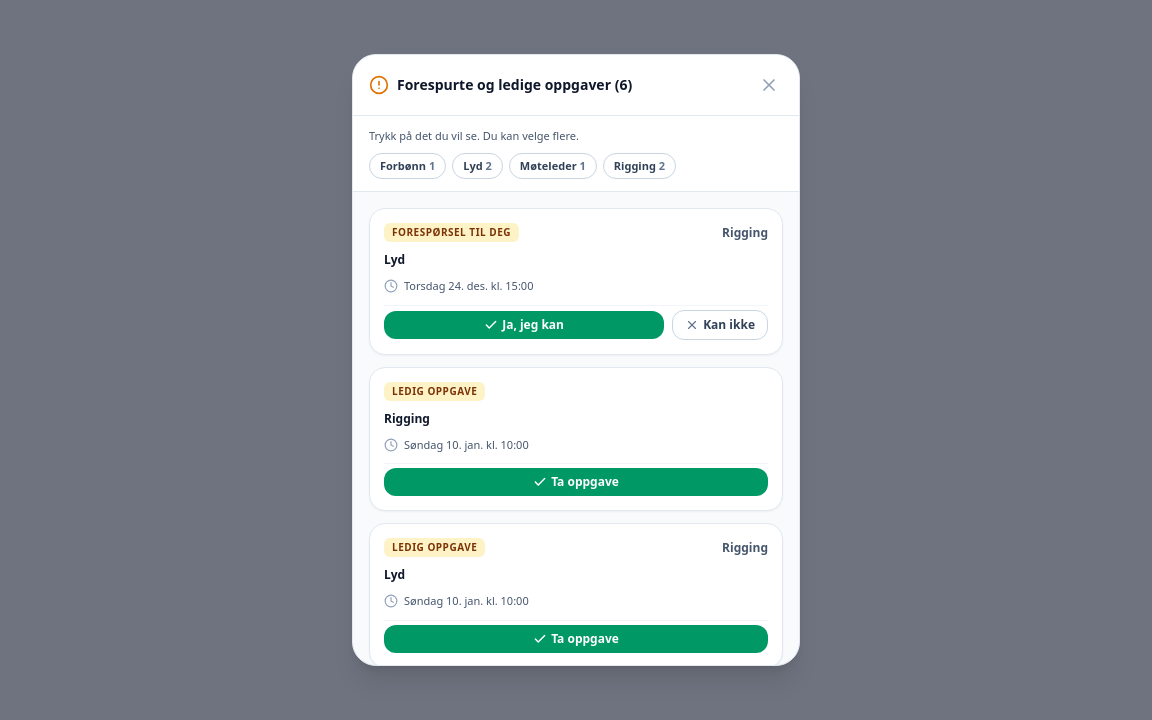
Test case: Listen med tagger › flere tagger kan trykkes inn, og alle som er trykket inn, vises
The width and height of the screenshot is (1152, 720).
Expected: the heading "Forespurte og ledige oppgaver (6)" is shown, [397, 75, 632, 95]
Click the button "Rigging 2": click(639, 166) [603, 152, 676, 179]
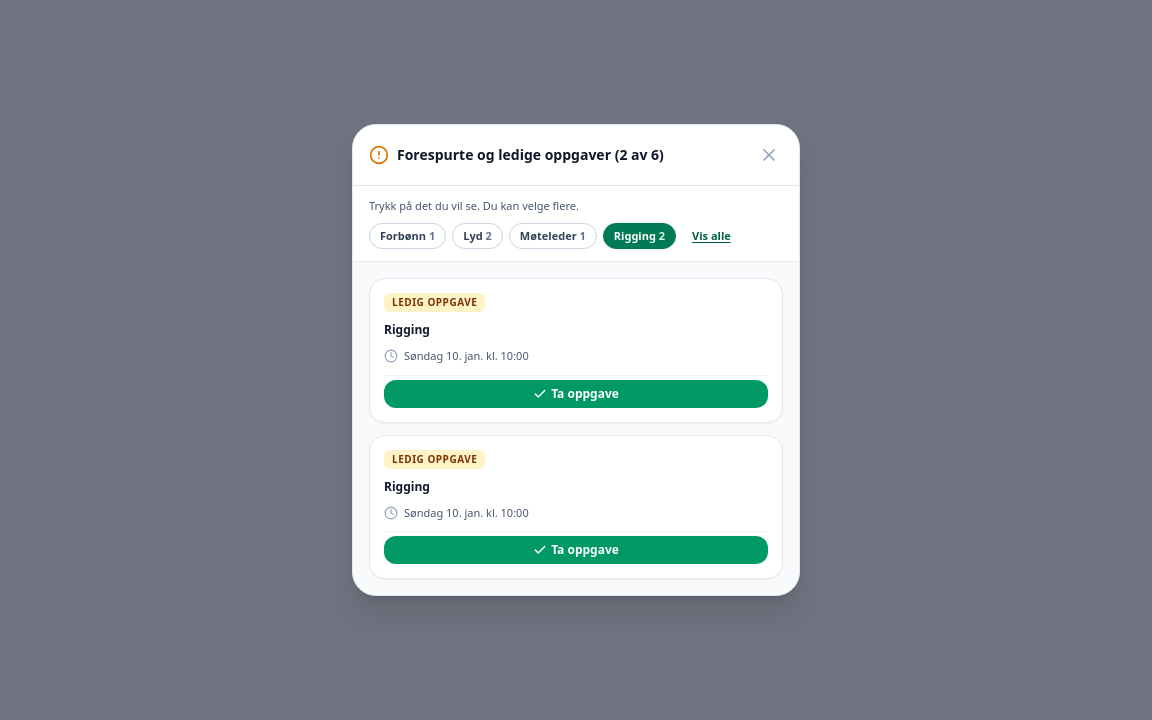
Now the heading "Forespurte og ledige oppgaver (2 av 6)" is shown, box [397, 145, 664, 165]
Click the button "Møteleder 1": click(553, 236) [509, 222, 597, 249]
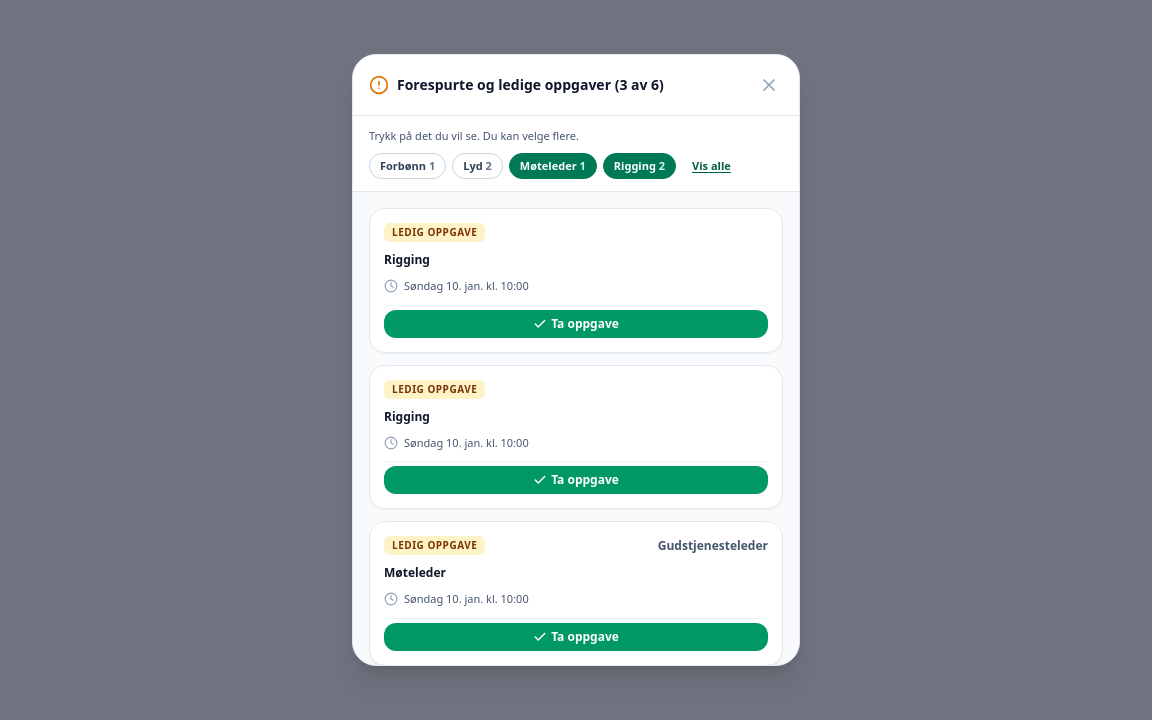
Now the button "Rigging 2" is pressed
# Pressed again, a tag comes out
Click the button "Rigging 2": click(639, 166) [603, 152, 676, 179]
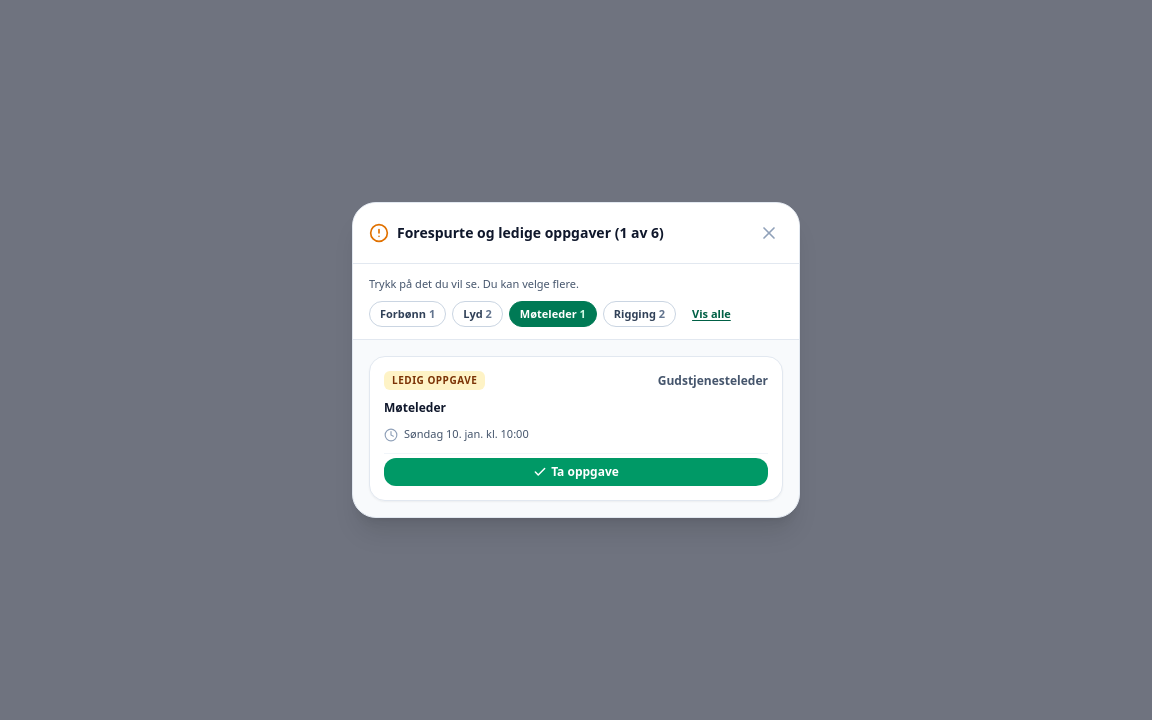
Click the button "Vis alle": click(711, 314) [682, 301, 741, 327]
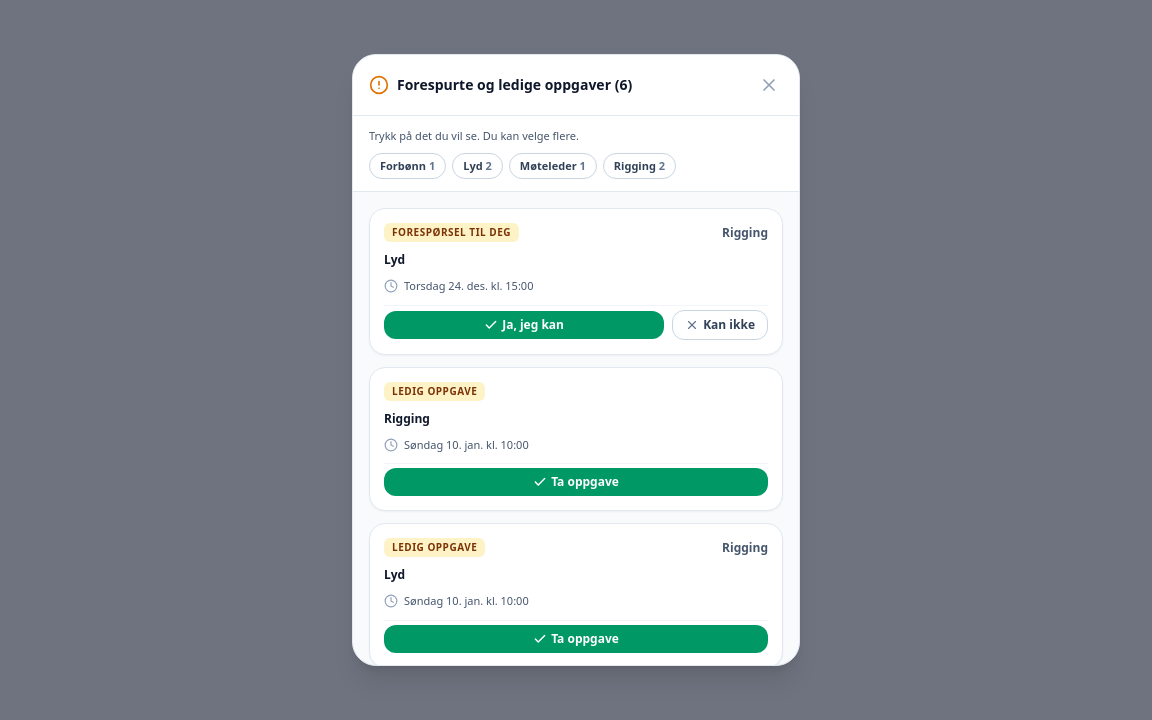
Now the button "Vis alle" is gone
